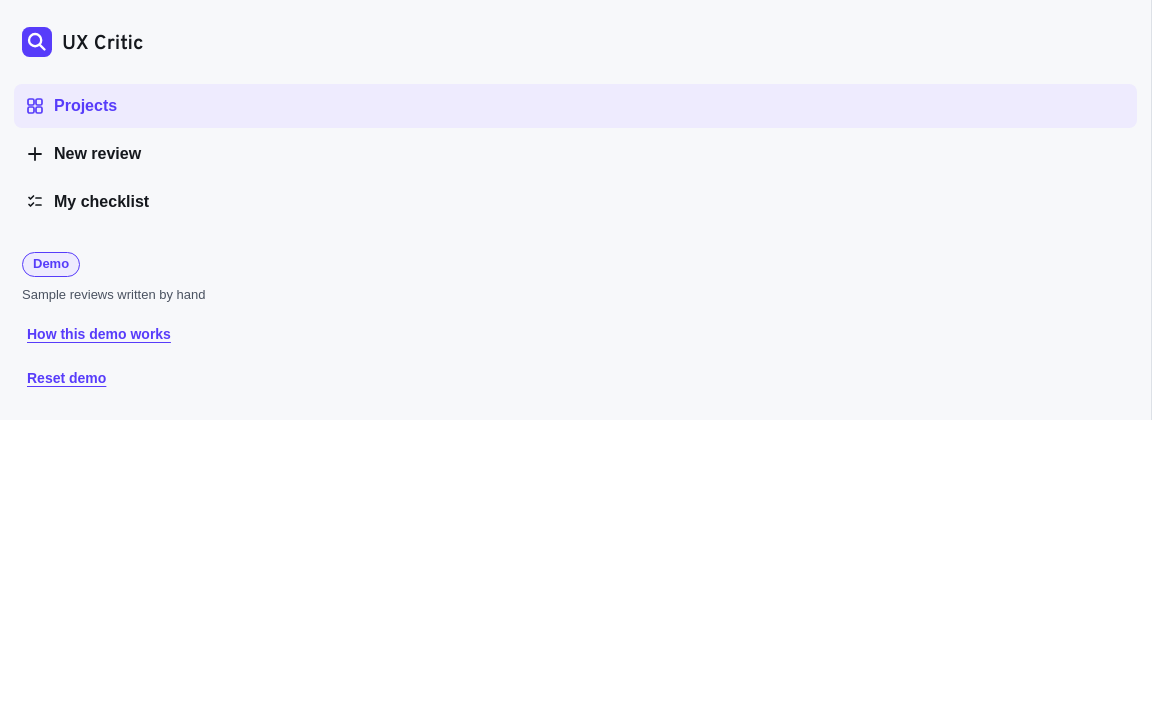
Test: Sidebar › opens How this demo works with the agreed text and a link to all states
The width and height of the screenshot is (1152, 720).
Click the button "How this demo works".
click(99, 334)  # box [22, 312, 176, 356]
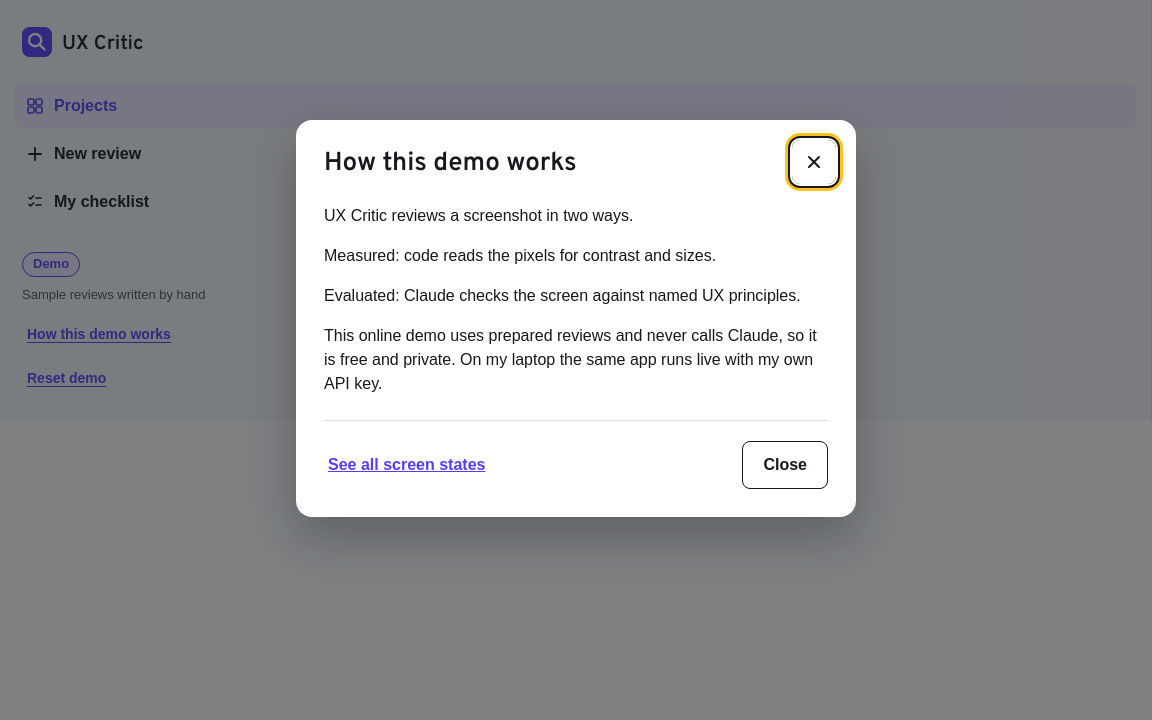
Now the dialog "How this demo works" shows "never calls Claude, so it is free and private", box [324, 327, 817, 392]
